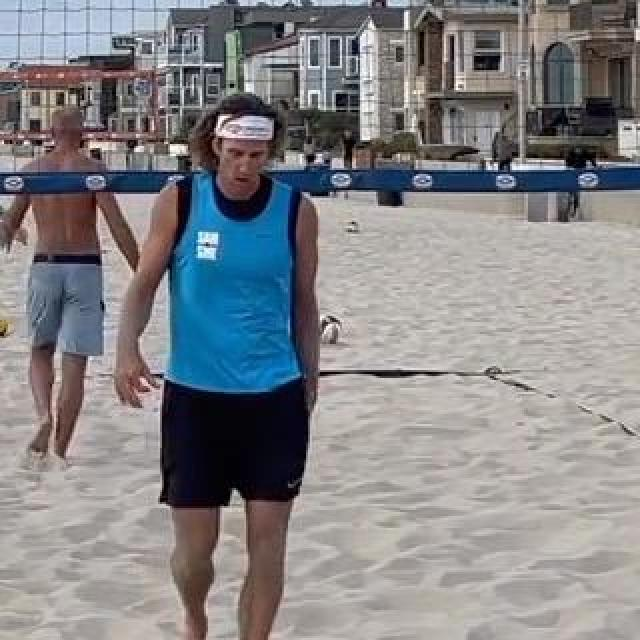volleyball: (312, 313, 342, 345), (0, 317, 10, 337), (345, 220, 359, 234)
